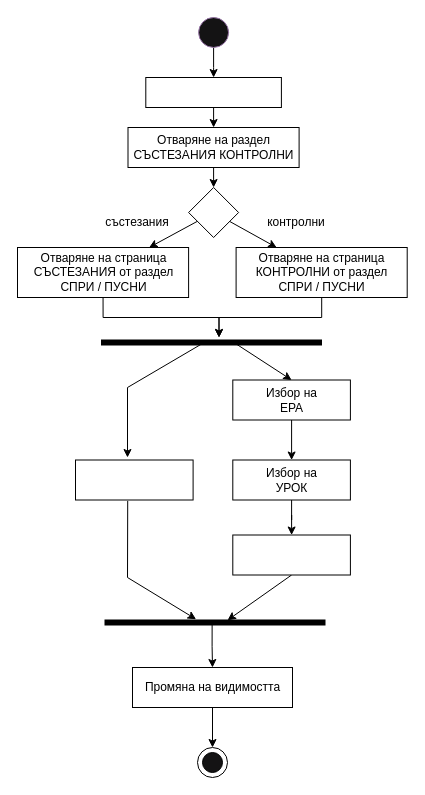
The diagram is 425 pixels wide and 795 high, and some of its shapes have lost their labels. Each missing label, with the centre of its shape:
"Вход в системата" belongs at pixel 213 92.
"Избор на бланка" belongs at pixel 291 554.
"Избор на клас" belongs at pixel 133 479.
